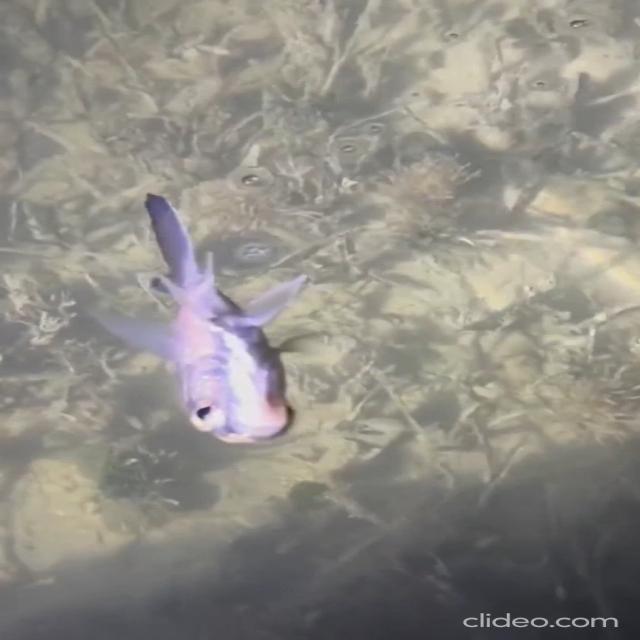fish: (100, 180, 332, 464)
